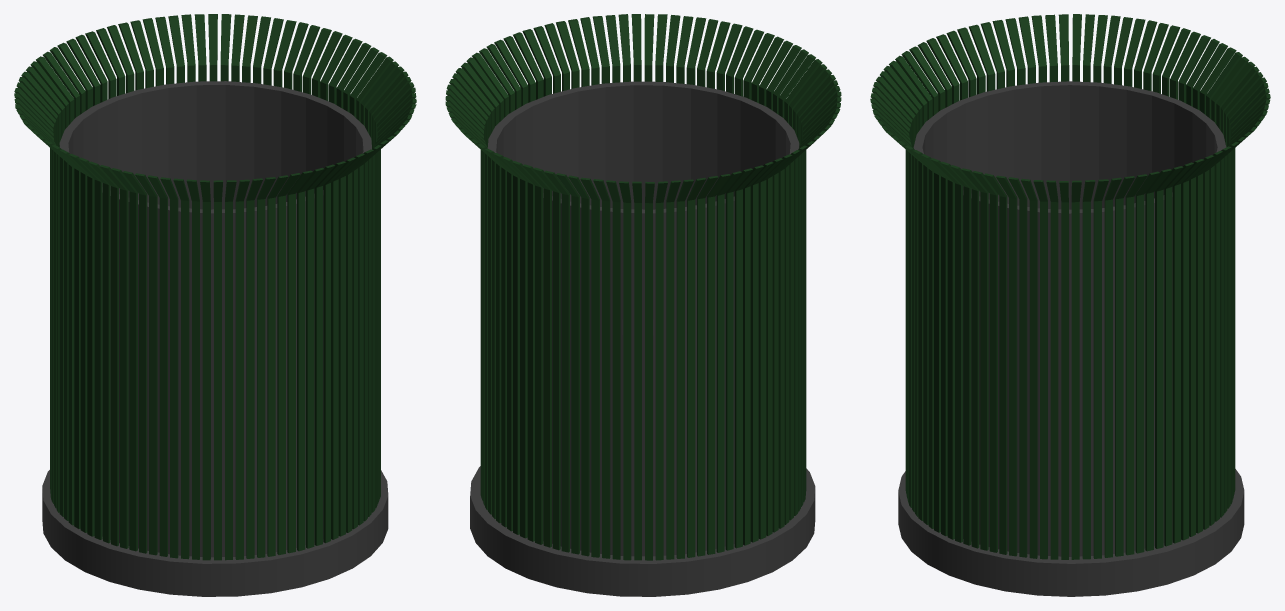
Rendered from TrashCan.fbx.
3 views of the same model, side by side, from view 1: azimuth 30°, elevation 25°; view 2: azimuth 150°, elevation 25°; view 3: azimuth 270°, elevation 25° (orthographic).
Visible parts, largest first — view 1: TrashOuter, TrashInner, TrashBottom; view 2: TrashOuter, TrashInner, TrashBottom; view 3: TrashOuter, TrashInner, TrashBottom.
Part boxes in pixels (<box>): TrashOuter: <box>14,14,416,560</box>; TrashInner: <box>59,81,371,557</box>; TrashBottom: <box>42,470,388,596</box>; TrashOuter: <box>445,14,841,560</box>; TrashInner: <box>487,81,799,556</box>; TrashBottom: <box>470,466,815,596</box>; TrashOuter: <box>870,14,1270,559</box>; TrashInner: <box>913,81,1226,556</box>; TrashBottom: <box>898,469,1244,596</box>.
Size of the model in its own units: 265 by 312 by 266.
